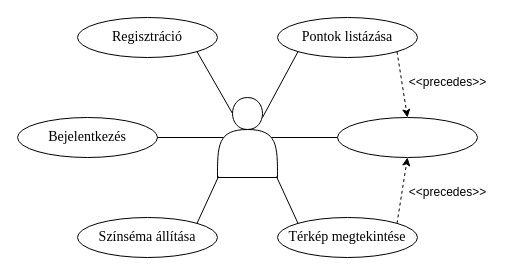
Some shapes in this 515 by 275 pixel diagram are drawn without their labels. The centre of each missing label's shape, as x and y in pixels:
"Pont adatainak részletezése" goes at (x=407, y=137).
"Vendég" goes at (x=247, y=137).
